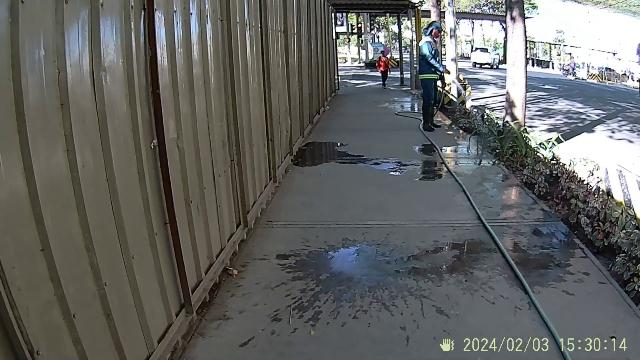utility_post: (501, 0, 531, 152)
